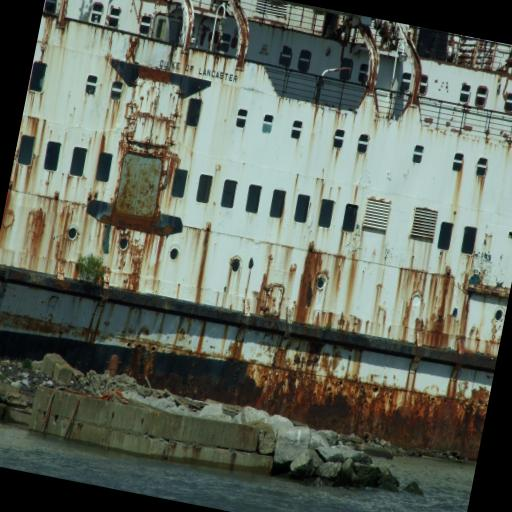corrosion: (0, 265, 496, 462), (85, 96, 200, 238), (42, 200, 86, 281), (293, 249, 333, 325), (255, 255, 293, 319), (402, 41, 424, 110), (123, 232, 148, 292), (21, 206, 48, 256), (196, 222, 211, 292), (32, 16, 54, 62), (357, 17, 379, 55), (1, 189, 20, 231), (137, 65, 172, 85), (425, 329, 448, 348), (125, 35, 139, 63), (24, 116, 39, 137), (370, 59, 379, 92), (36, 35, 47, 60), (118, 230, 129, 252), (46, 200, 59, 215), (134, 5, 142, 21), (158, 0, 167, 6), (195, 292, 200, 302)
